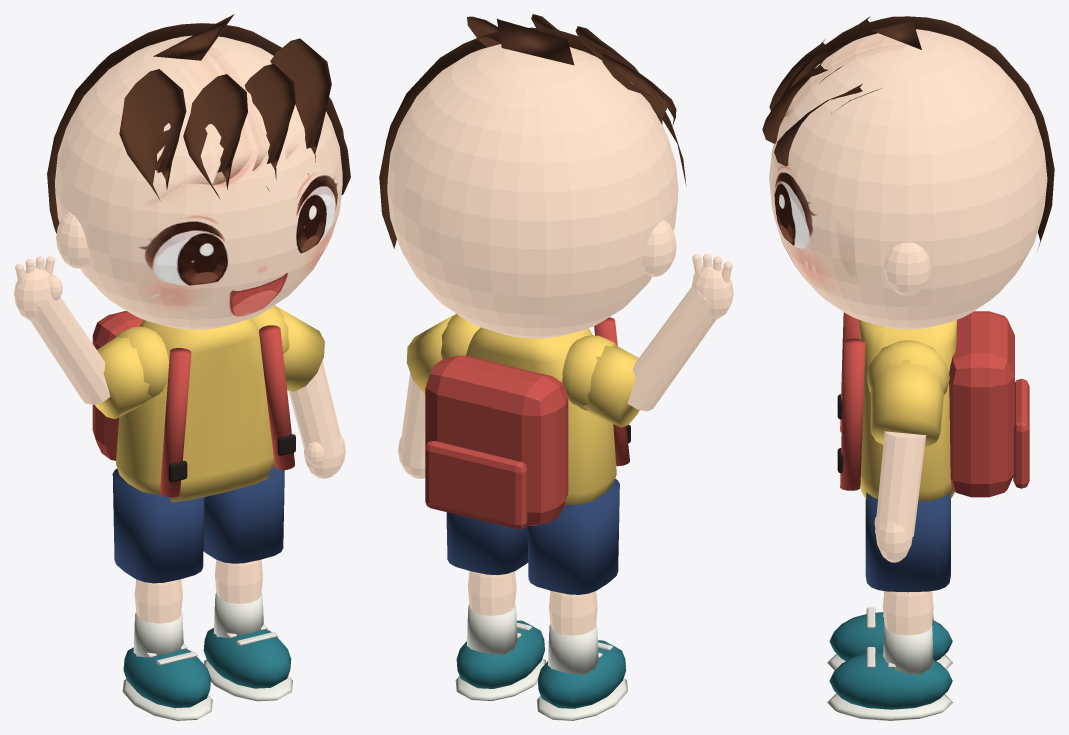
Rendered from person-schoolkid.glb.
3 renders of one model, left to right at view 1: azimuth 30°, elevation 25°; view 2: azimuth 150°, elevation 25°; view 3: azimuth 270°, elevation 25°, orthographic.
Parts seen in each view (by area): view 1: Smooth full depth round head with 2D face only, Short soft shirt, Navy short leg, Navy short leg.001, Swept tapered hair lock, Independent rounded 3D hair cap, Forearm, Swept tapered hair lock.001, Shoe upper.001, Shoe upper, Swept tapered hair lock.003, Backpack shoulder strap (+18 smaller); view 2: Smooth full depth round head with 2D face only, Coral backpack, Short soft shirt, Navy short leg, Backpack front pocket, Forearm, Navy short leg.001, Independent rounded 3D hair cap, Shoe upper, Shoe upper.001, Capped short sleeve, Covered shoulder (+15 smaller); view 3: Smooth full depth round head with 2D face only, Coral backpack, Short soft shirt, Navy short leg.001, Capped short sleeve.001, Shoe upper.001, Forearm.001, Independent rounded 3D hair cap, Backpack shoulder strap.001, Shoe upper, Lower leg.001, Ear.001 (+10 smaller).
Boxes of the visible parts, left/top/right/bottom form: Smooth full depth round head with 2D face only: left=55, top=35, right=342, bottom=329; Short soft shirt: left=116, top=319, right=274, bottom=502; Navy short leg: left=112, top=468, right=204, bottom=583; Navy short leg.001: left=203, top=466, right=284, bottom=563; Swept tapered hair lock: left=119, top=69, right=186, bottom=200; Independent rounded 3D hair cap: left=47, top=23, right=350, bottom=233; Forearm: left=30, top=294, right=110, bottom=404; Swept tapered hair lock.001: left=183, top=74, right=247, bottom=198; Shoe upper.001: left=203, top=628, right=291, bottom=688; Shoe upper: left=123, top=647, right=210, bottom=708; Swept tapered hair lock.003: left=270, top=38, right=331, bottom=174; Backpack shoulder strap: left=160, top=348, right=191, bottom=497; Smooth full depth round head with 2D face only: left=387, top=44, right=678, bottom=338; Coral backpack: left=425, top=355, right=568, bottom=525; Short soft shirt: left=466, top=327, right=616, bottom=505; Navy short leg: left=527, top=479, right=619, bottom=594; Backpack front pocket: left=425, top=441, right=527, bottom=529; Forearm: left=627, top=287, right=716, bottom=411; Navy short leg.001: left=446, top=512, right=528, bottom=575; Independent rounded 3D hair cap: left=379, top=27, right=686, bottom=248; Shoe upper: left=537, top=640, right=626, bottom=708; Shoe upper.001: left=456, top=620, right=544, bottom=688; Capped short sleeve: left=583, top=344, right=639, bottom=427; Covered shoulder: left=562, top=335, right=616, bottom=410; Smooth full depth round head with 2D face only: left=769, top=29, right=1047, bottom=329; Coral backpack: left=949, top=311, right=1014, bottom=497; Short soft shirt: left=859, top=320, right=956, bottom=501; Navy short leg.001: left=865, top=492, right=950, bottom=592; Capped short sleeve.001: left=870, top=360, right=944, bottom=447; Shoe upper.001: left=829, top=651, right=952, bottom=709; Forearm.001: left=875, top=431, right=926, bottom=538; Independent rounded 3D hair cap: left=780, top=16, right=1054, bottom=248; Backpack shoulder strap.001: left=840, top=338, right=865, bottom=490; Shoe upper: left=829, top=612, right=952, bottom=660; Lower leg.001: left=882, top=591, right=933, bottom=635; Ear.001: left=883, top=242, right=931, bottom=295.
Size of the model in its own units: 0.829 by 1.6 by 0.6301.
Materials: 9 (1 with a texture image).
